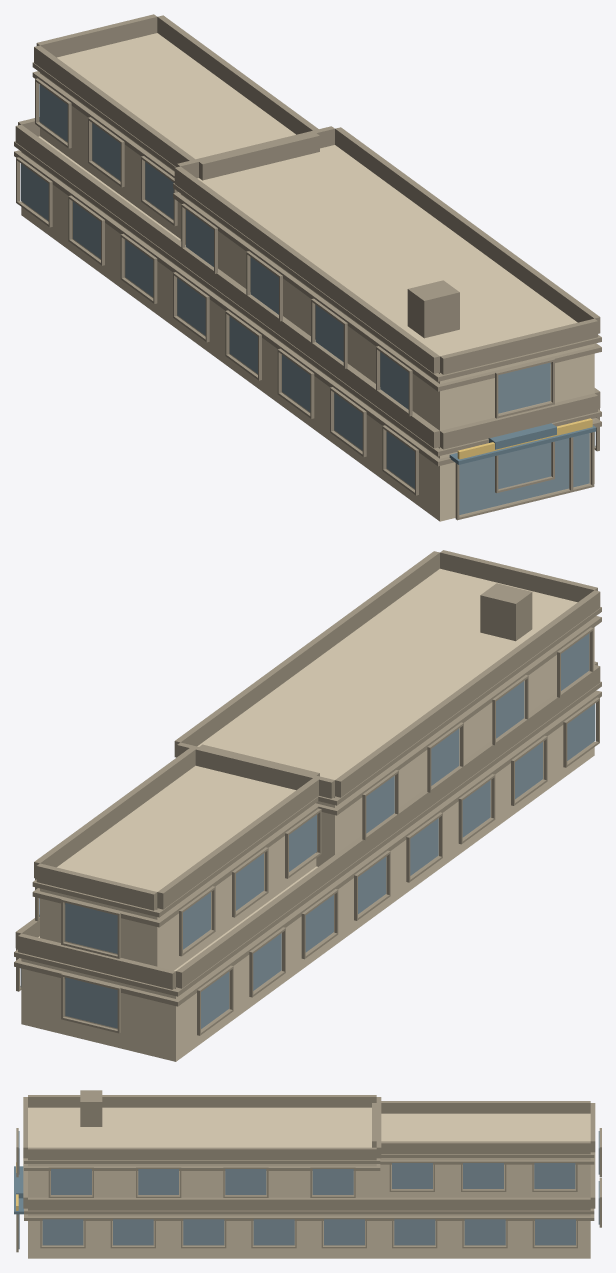
Rendered from commercial_1x4_court.glb.
3 renders of one model, top to bottom at view 1: azimuth 30°, elevation 25°; view 2: azimuth 150°, elevation 25°; view 3: azimuth 270°, elevation 25°, orthographic. The views are drawn at different scales.
Parts seen in each view (by area): view 1: commercial_1x4_court_0; view 2: commercial_1x4_court_0; view 3: commercial_1x4_court_0.
Part boxes in pixels (x1,y1,x2,y2): commercial_1x4_court_0: (14, 14, 601, 521); commercial_1x4_court_0: (14, 550, 601, 1061); commercial_1x4_court_0: (14, 1090, 601, 1258).
Bounding box in the file's own units: 7.74 × 7.5 × 31.87.
